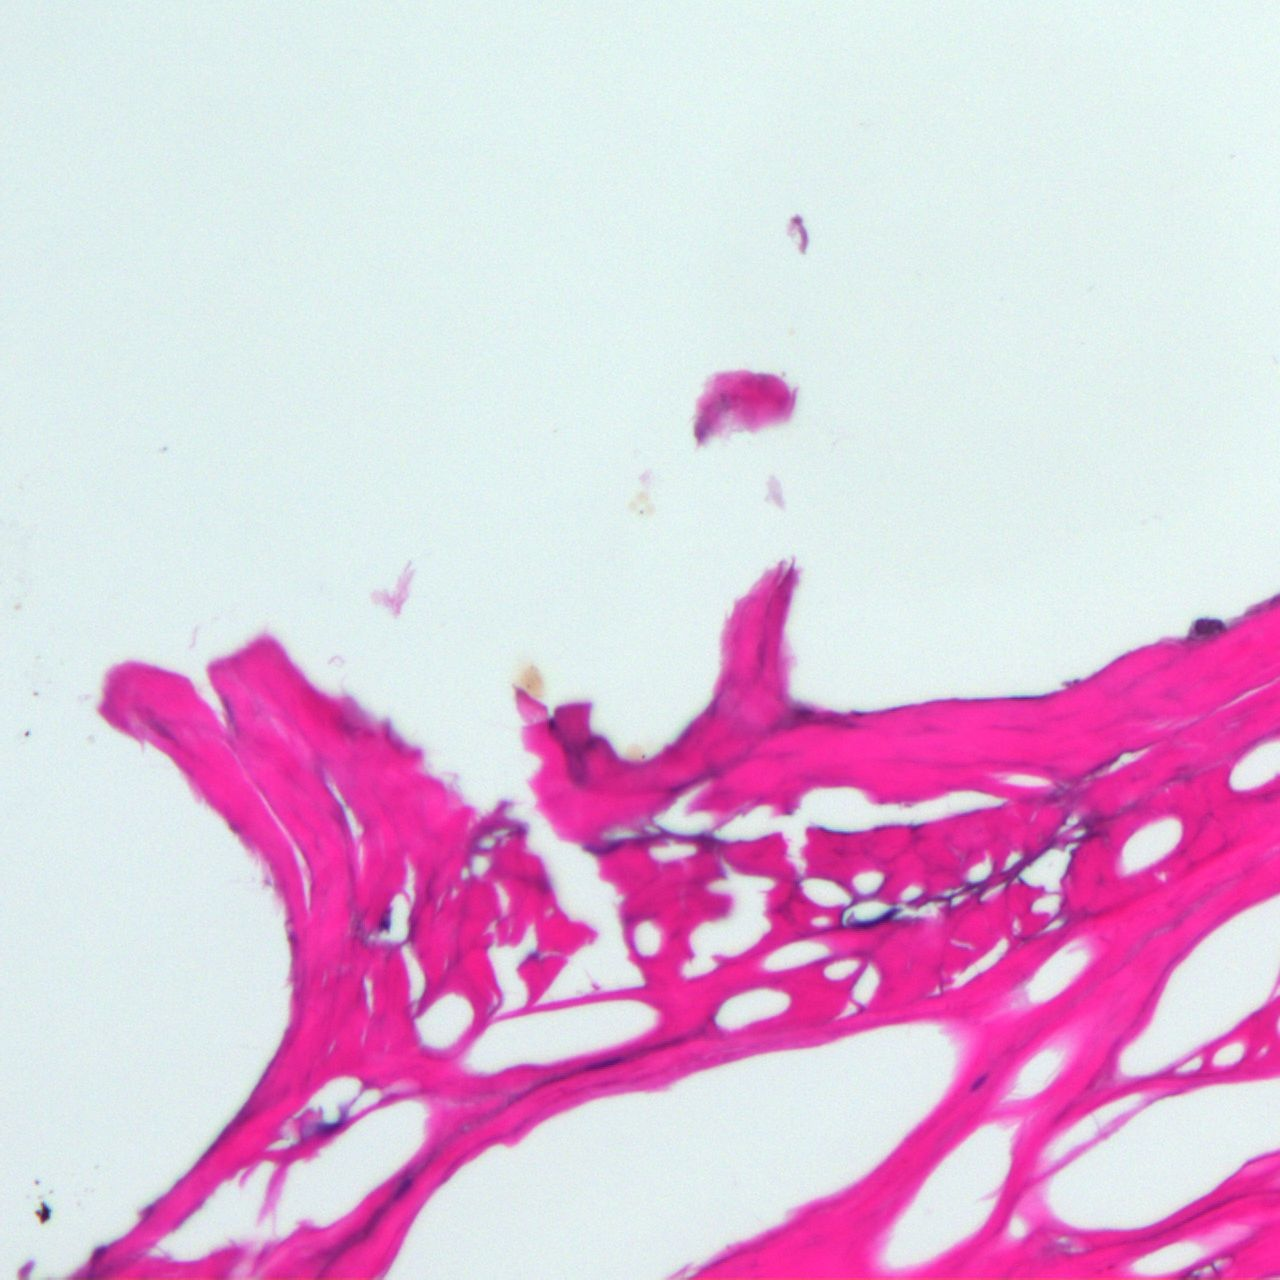dust: (521, 663, 546, 696), (625, 743, 644, 759)
nucleus-HE: (1193, 618, 1225, 636)
